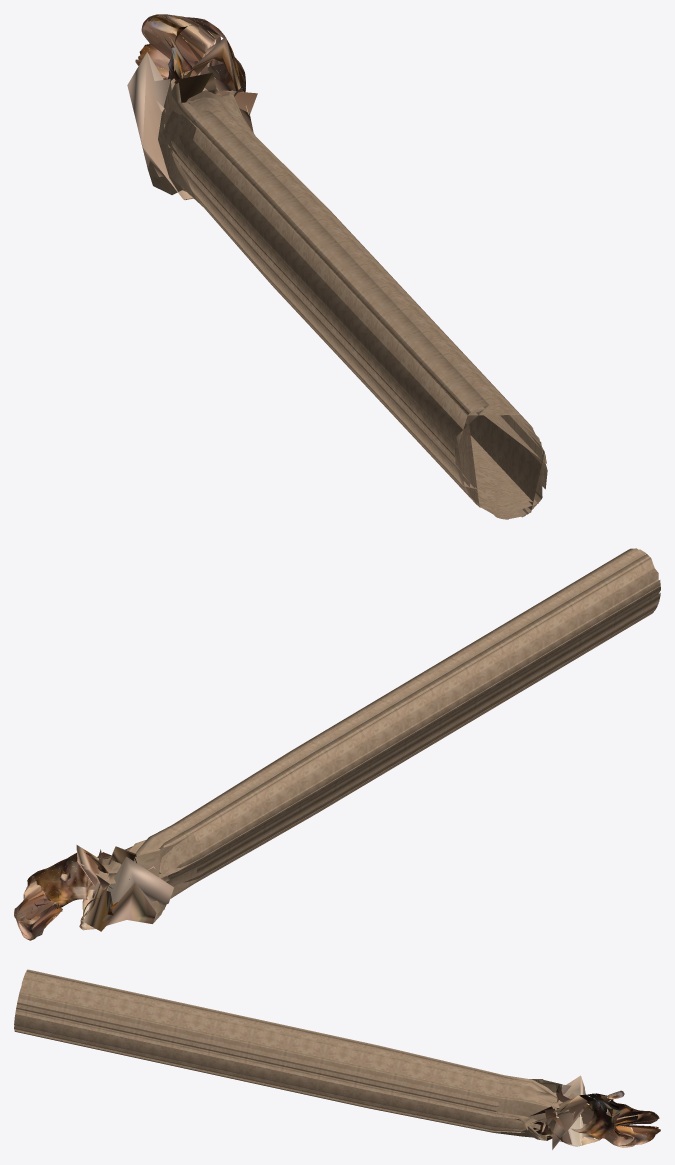
File: cat-grip-v5.glb
3 views of the same model, one above another, from view 1: azimuth 30°, elevation 25°; view 2: azimuth 150°, elevation 25°; view 3: azimuth 270°, elevation 25° (orthographic). The views are drawn at different scales.
Parts seen in each view (by area): view 1: cat-card-grip; view 2: cat-card-grip; view 3: cat-card-grip.
Part boxes in pixels (left/top/right/bottom): cat-card-grip: left=127, top=14, right=547, bottom=519; cat-card-grip: left=14, top=548, right=660, bottom=940; cat-card-grip: left=14, top=969, right=660, bottom=1149.
Size of the model in its own units: 0.5358 by 0.3232 by 1.67.
Materials: 2 (2 with a texture image).
